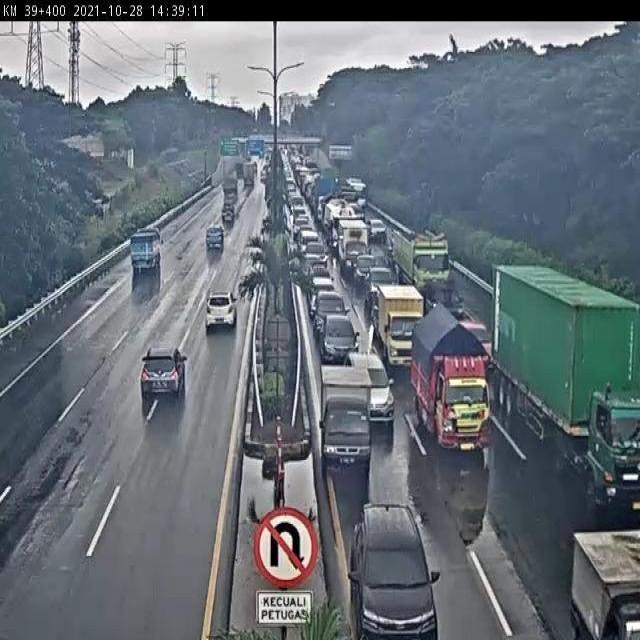big truck: (483, 233, 640, 524), (384, 228, 452, 301)
car: (335, 484, 445, 635), (127, 331, 195, 417), (344, 341, 394, 424), (195, 278, 242, 342), (316, 308, 361, 365), (454, 310, 491, 370), (310, 288, 351, 341), (201, 218, 229, 254)
small truck: (395, 292, 497, 453), (547, 510, 640, 640), (311, 356, 375, 481), (371, 280, 429, 369), (123, 221, 164, 280)
